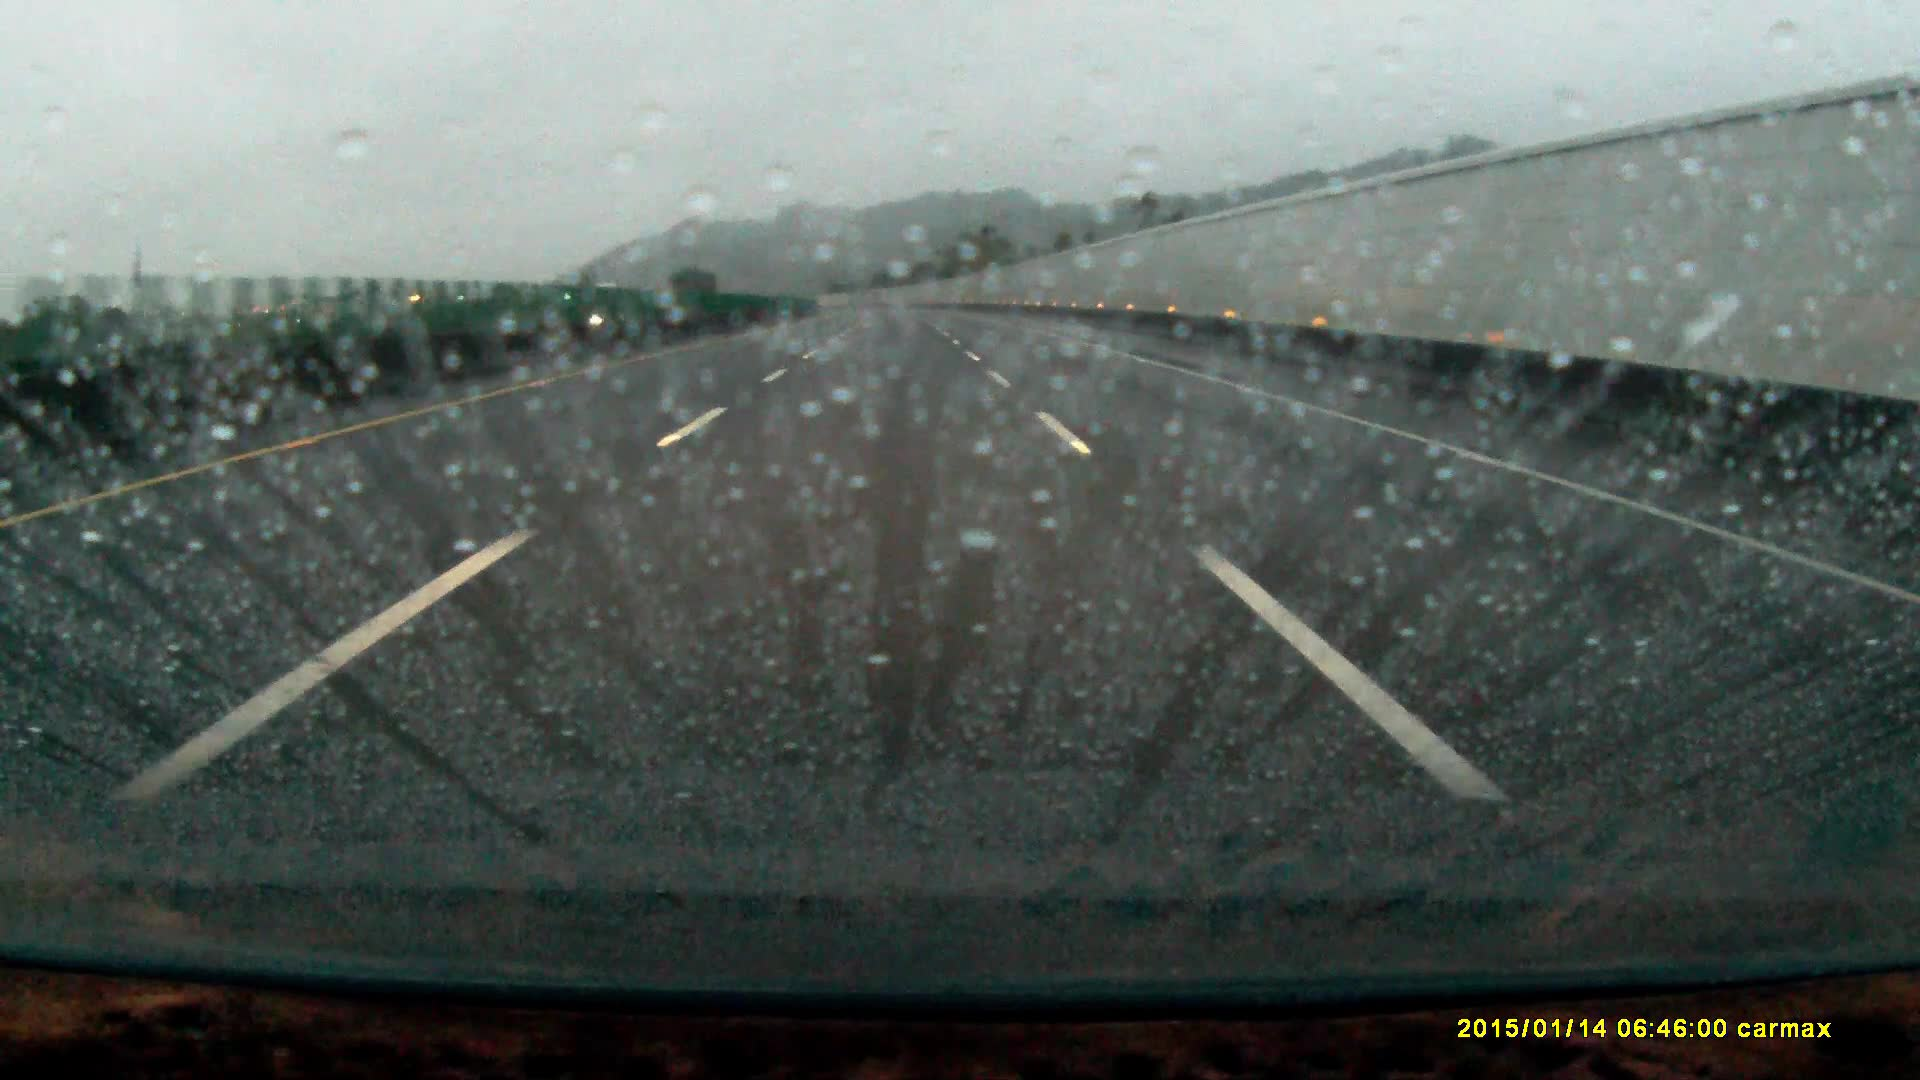vehicle: (592, 295, 640, 323)
